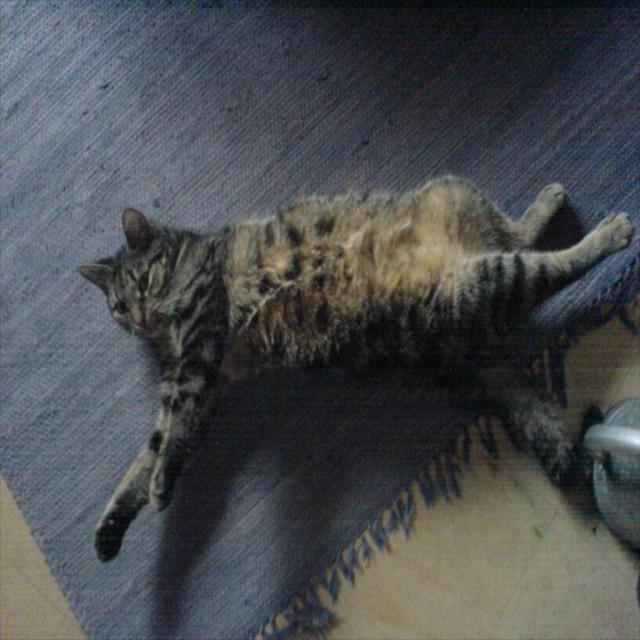Cat: (77, 178, 637, 564)
